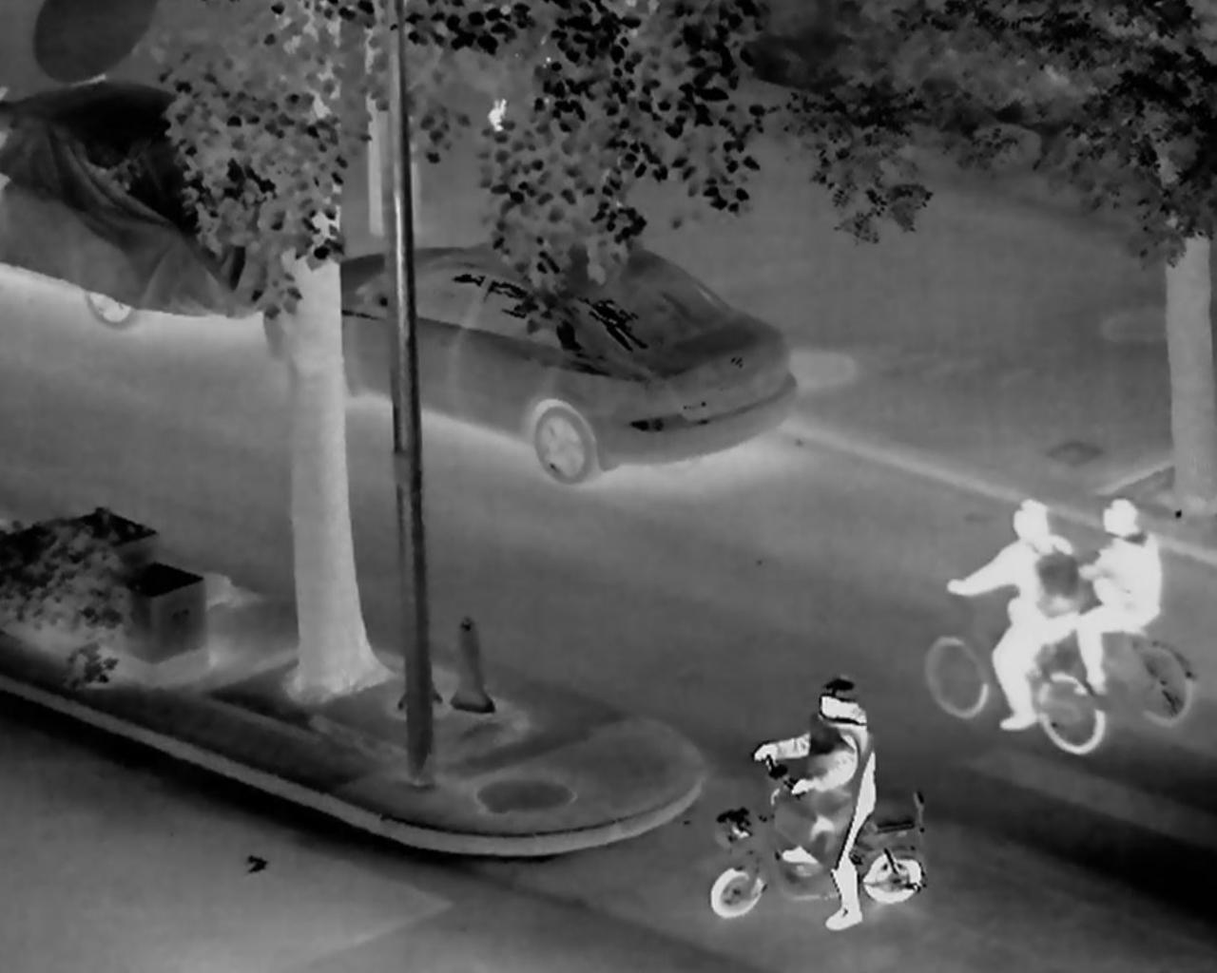person: (949, 497, 1081, 730), (759, 674, 874, 932), (1075, 498, 1162, 699)
